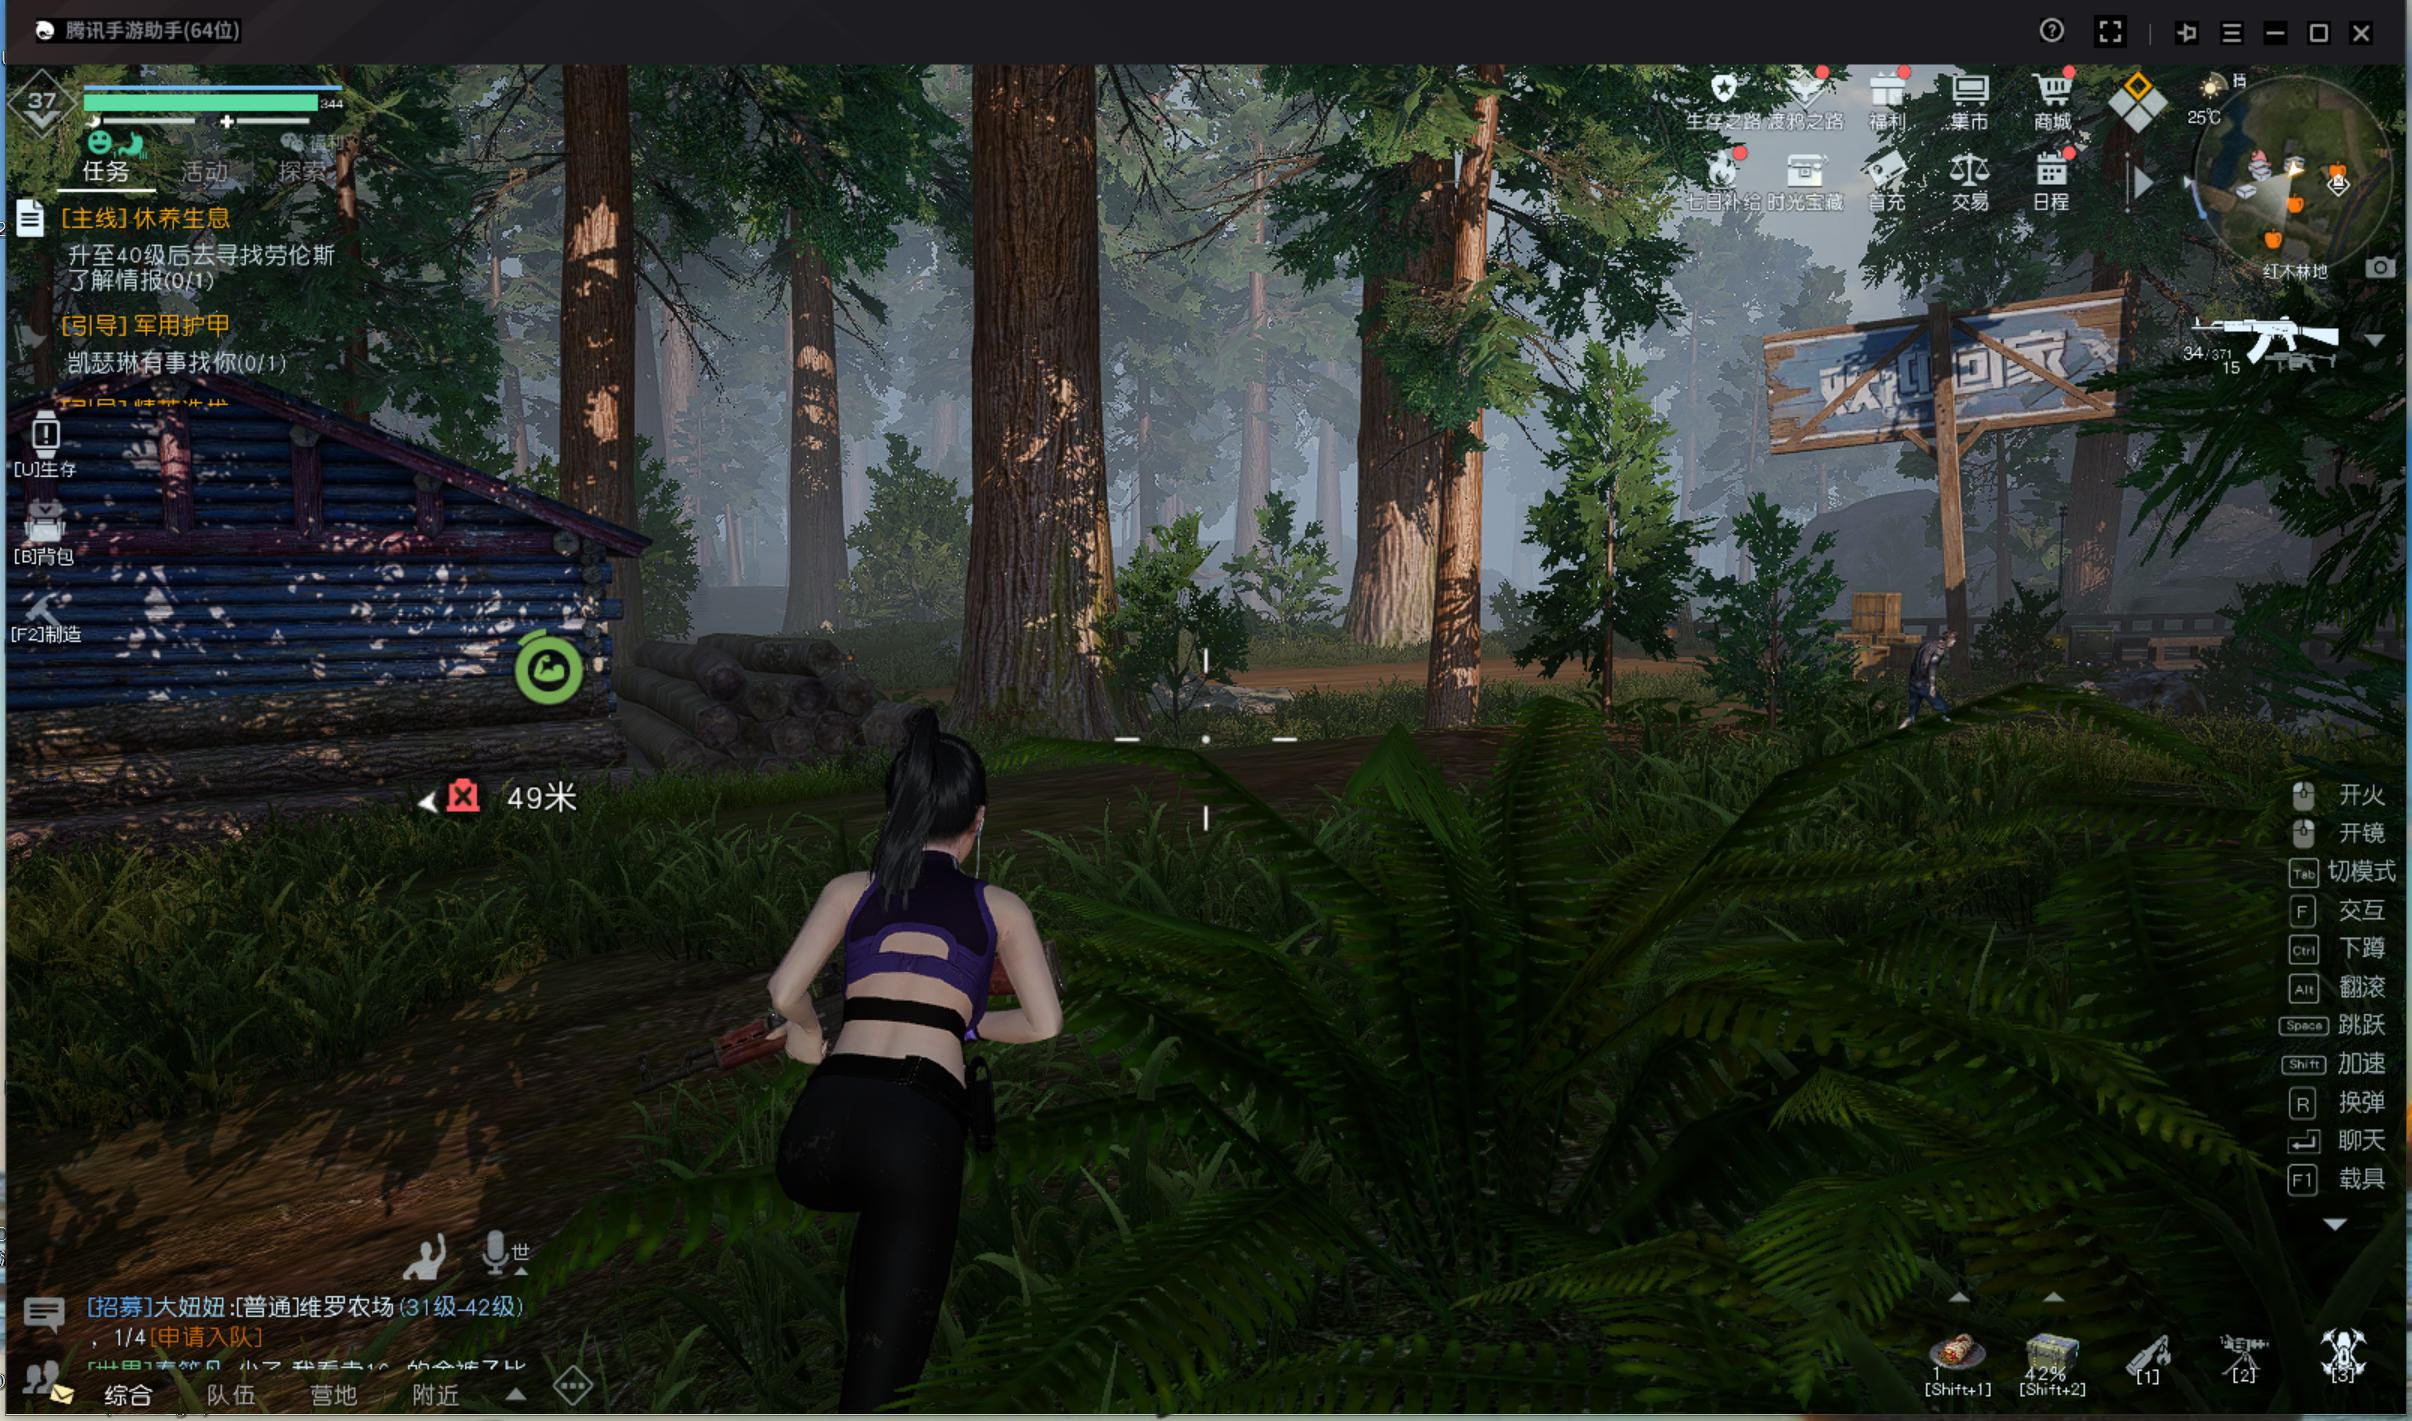tree: (964, 161, 1128, 766), (556, 227, 644, 650), (1428, 223, 1490, 770), (780, 298, 858, 636), (1223, 262, 1285, 651)
